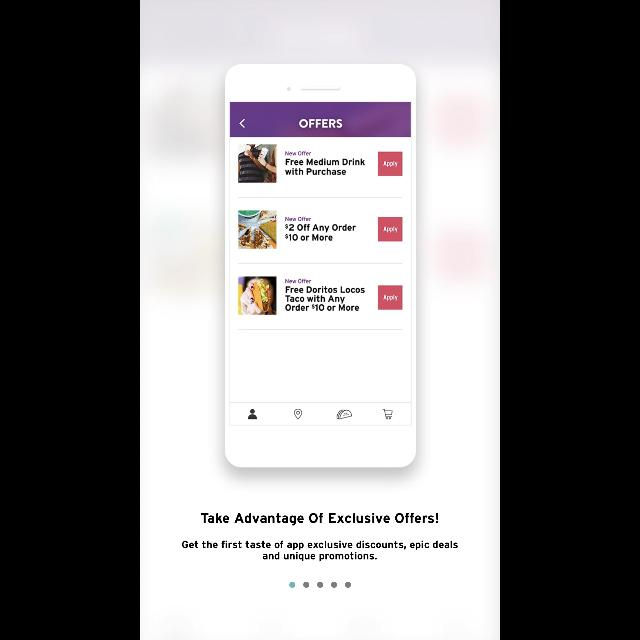image: (224, 65, 416, 468)
pageindicator: (289, 582, 351, 588)
text: (182, 540, 458, 562), (202, 512, 438, 526)
